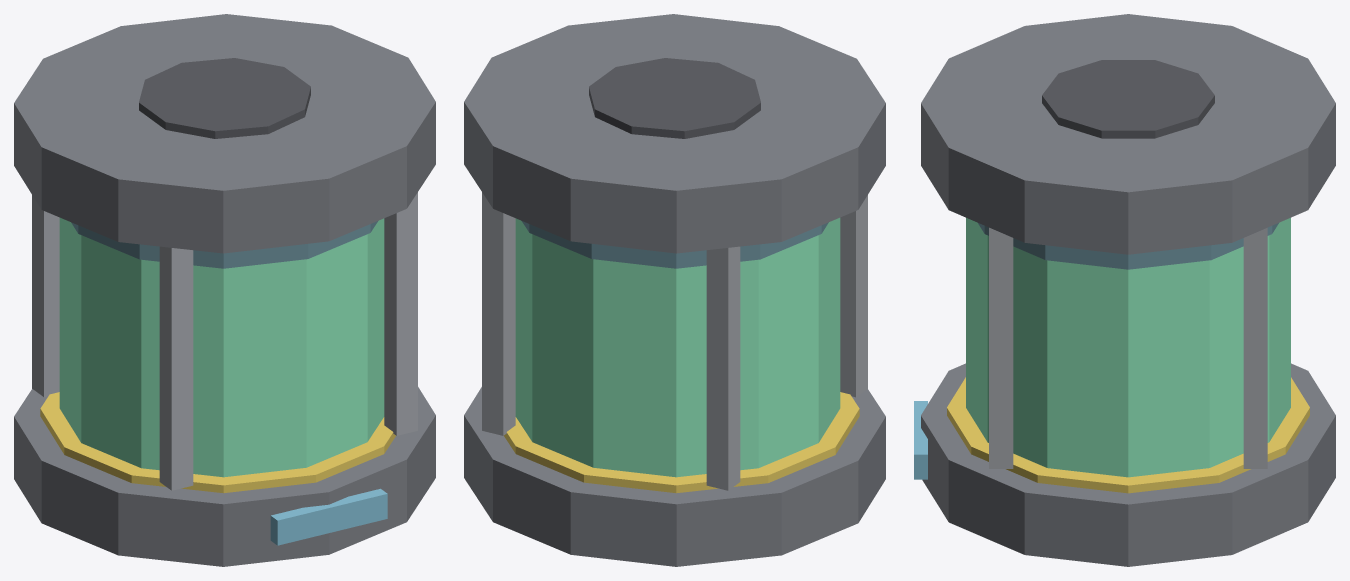
File: prop_tank.fbx
3 views of the same model, side by side, from view 1: azimuth 30°, elevation 25°; view 2: azimuth 150°, elevation 25°; view 3: azimuth 270°, elevation 25° (orthographic).
Visible parts, largest first — view 1: prop_tank; view 2: prop_tank; view 3: prop_tank.
Part boxes in pixels (x1=…): prop_tank: x1=14, y1=14, x2=435, y2=566; prop_tank: x1=464, y1=14, x2=885, y2=566; prop_tank: x1=914, y1=14, x2=1335, y2=566.
Bounding box in the file's own units: 1 × 1 × 1.
